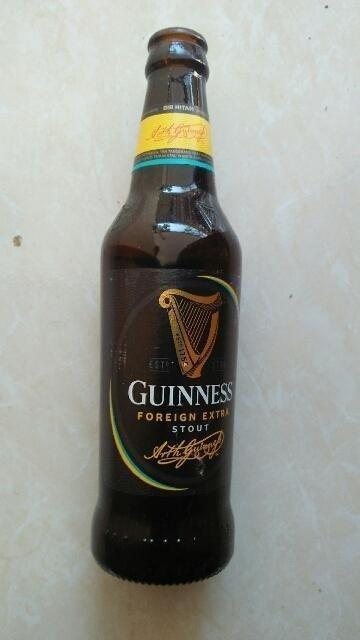bottle-glass: (90, 28, 243, 586)
